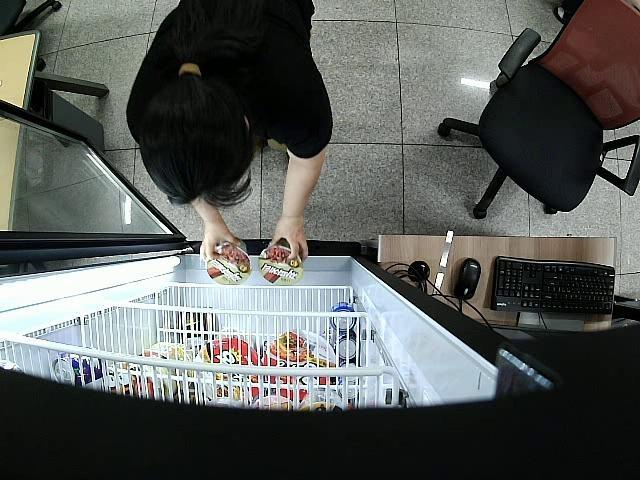03_chapagetti_L: (204, 240, 250, 286), (258, 240, 302, 286)
